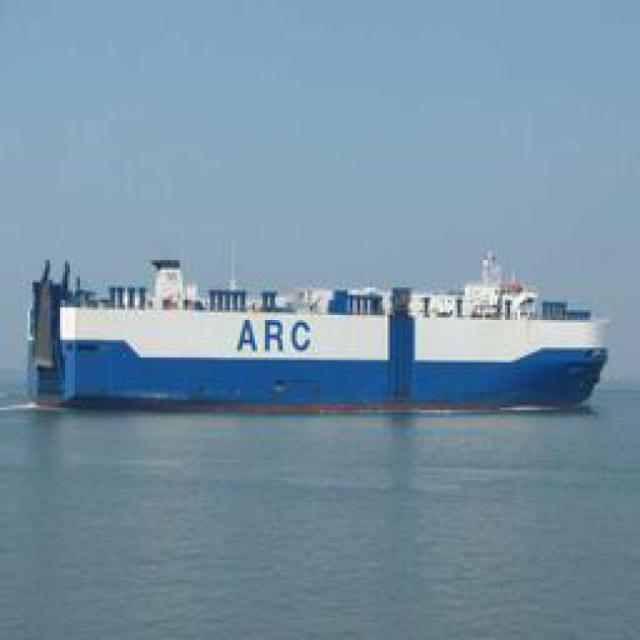boat: (42, 265, 633, 418)
